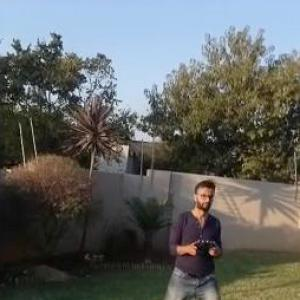follow: (144, 173, 234, 298)
